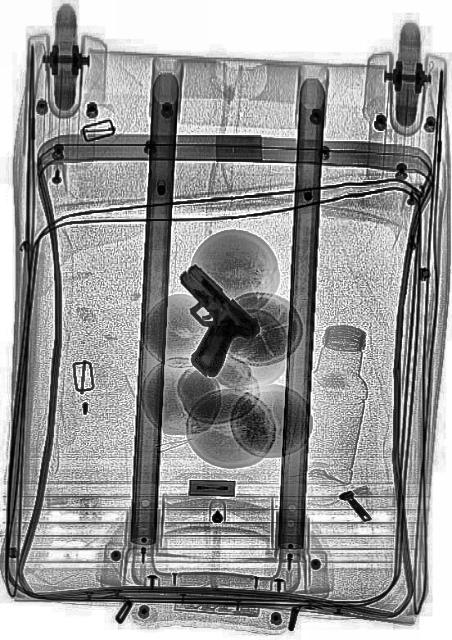Gun: (151, 254, 261, 392)
